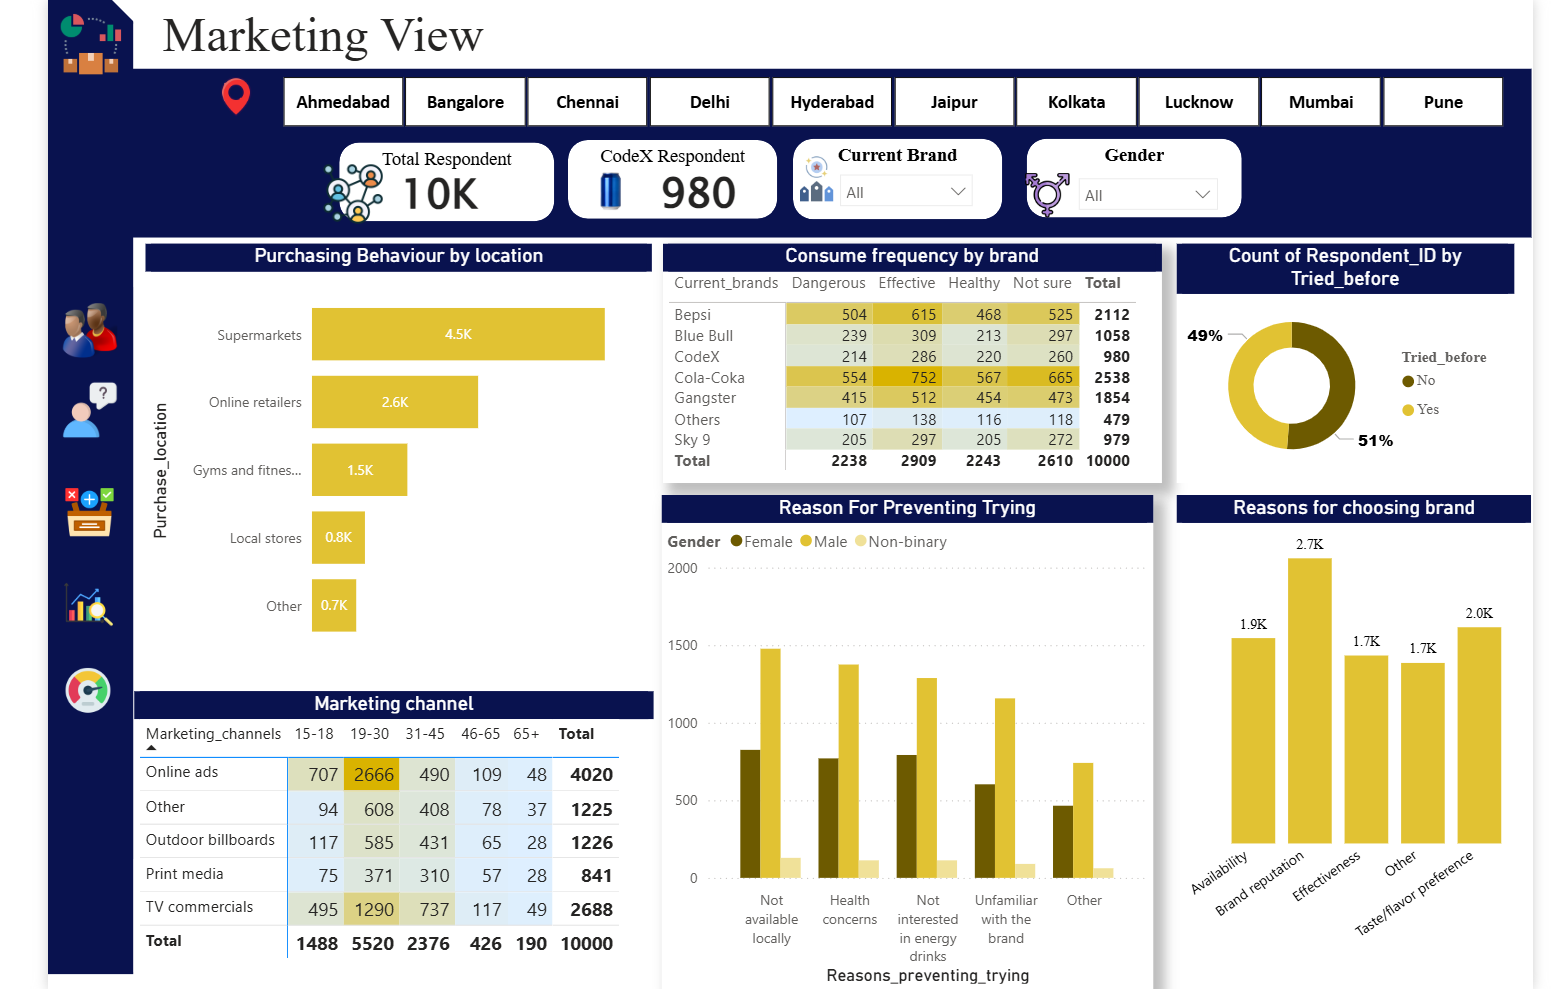

This screenshot's page, from the dashboard's own definition file:
{"tool":"powerbi","page":{"name":"Marketing view","canvas":[1281,854],"ordinal":5},"visuals":[{"type":"shape","box":[67.9,59.6,1211.8,145.7],"z":0},{"type":"shape","box":[642.3,119.2,180.5,69.5],"z":1000},{"type":"textbox","box":[94.1,0,415.2,70.6],"z":2000},{"type":"shape","box":[0,0,74,840.6],"z":3000},{"type":"shape","box":[448.6,120.9,180.5,67.9],"z":4000},{"type":"card","fields":{"Values":["fact_survey_responses.codex respondent"]},"box":[509.9,137.4,102.6,56.3],"z":5000},{"type":"shape","box":[251.6,122.5,185.4,67.9],"z":6000},{"type":"card","fields":{"Values":["measure.Total Respondent"]},"box":[263.2,140.7,149,49.7],"z":7000},{"type":"slicer","fields":{"Values":["dim_cities.City"]},"box":[177.1,59.6,1102.6,56.3],"z":8000},{"type":"slicer","fields":{"Values":["fact_survey_responses.Current_brands"]},"box":[673.3,140,135,46.7],"z":9000},{"type":"shape","box":[844.3,119.2,185.4,67.9],"z":10000},{"type":"slicer","fields":{"Values":["dim_repondents.Gender"]},"box":[878.3,143.3,140,40],"z":11000},{"type":"image","box":[836,144,53,48],"z":12000},{"type":"image","box":[129.1,59.6,66.2,48],"z":13000},{"type":"image","box":[195.4,137.4,135.8,61.3],"z":14000},{"type":"image","box":[629.1,129.1,69.5,49.7],"z":15000},{"type":"image","box":[448.6,140.7,72.8,46.4],"z":16000},{"type":"barChart","title":"Purchasing Behaviour by location","fields":{"Category":["fact_survey_responses.Purchase_location"],"Y":["CountNonNull(dim_repondents.Respondent_ID)"]},"box":[84.1,210.1,437.1,364.8],"z":17000},{"type":"pivotTable","title":"Marketing channel","fields":{"Rows":["fact_survey_responses.Marketing_channels"],"Values":["measure.Total Respondent"],"Columns":["dim_repondents.Age"]},"box":[74,596,448,258],"z":18000},{"type":"pivotTable","title":"Consume frequency  by brand","fields":{"Rows":["fact_survey_responses.Current_brands"],"Columns":["fact_survey_responses.General_perception"],"Values":["measure.Total Respondent"]},"box":[530,210,430,206],"z":19000},{"type":"clusteredColumnChart","title":"Reasons for choosing brand","fields":{"Category":["fact_survey_responses.Current_brands","fact_survey_responses.Reasons_for_choosing_brands"],"Y":["measure.Total Respondent"]},"box":[973.4,427,306,401.8],"z":20000},{"type":"donutChart","fields":{"Category":["fact_survey_responses.Tried_before"],"Y":["CountNonNull(dim_repondents.Respondent_ID)"]},"box":[973.4,210.1,290.8,206.8],"z":21000},{"type":"clusteredColumnChart","title":"Reason For Preventing Trying","fields":{"Category":["fact_survey_responses.Reasons_preventing_trying"],"Y":["measure.Total Respondent"],"Series":["dim_repondents.Gender"]},"box":[529.5,427,423.6,427],"z":22000},{"type":"image","box":[5,6.7,63.3,63.3],"z":23000},{"type":"image","box":[5,256.7,61.7,56.7],"z":24000},{"type":"image","box":[5,315,61.7,78.3],"z":25000},{"type":"image","box":[5,416.7,60,51.7],"z":26000},{"type":"image","box":[1.7,495,65,53.3],"z":27000},{"type":"image","box":[10,568.3,50,55],"z":28000}]}

Visuals, with their boxes on the page's 1281x854 design canvas (x1, y1, x2, y2). These are canvas units, not pixel positions in the 1563x989 screenshot, which may show the page scaled, cropped or inside an application window:
shape: Rect(68, 60, 1280, 205)
shape: Rect(642, 119, 823, 189)
textbox: Rect(94, 0, 509, 71)
shape: Rect(0, 0, 74, 841)
shape: Rect(449, 121, 629, 189)
card - fact_survey_responses.codex respondent: Rect(510, 137, 612, 194)
shape: Rect(252, 122, 437, 190)
card - measure.Total Respondent: Rect(263, 141, 412, 190)
slicer - dim_cities.City: Rect(177, 60, 1280, 116)
slicer - fact_survey_responses.Current_brands: Rect(673, 140, 808, 187)
shape: Rect(844, 119, 1030, 187)
slicer - dim_repondents.Gender: Rect(878, 143, 1018, 183)
image: Rect(836, 144, 889, 192)
image: Rect(129, 60, 195, 108)
image: Rect(195, 137, 331, 199)
image: Rect(629, 129, 699, 179)
image: Rect(449, 141, 521, 187)
"Purchasing Behaviour by location" barChart: Rect(84, 210, 521, 575)
"Marketing channel" pivotTable: Rect(74, 596, 522, 854)
"Consume frequency  by brand" pivotTable: Rect(530, 210, 960, 416)
"Reasons for choosing brand" clusteredColumnChart: Rect(973, 427, 1279, 829)
donutChart - fact_survey_responses.Tried_before x CountNonNull(dim_repondents.Respondent_ID): Rect(973, 210, 1264, 417)
"Reason For Preventing Trying" clusteredColumnChart: Rect(530, 427, 953, 854)
image: Rect(5, 7, 68, 70)
image: Rect(5, 257, 67, 313)
image: Rect(5, 315, 67, 393)
image: Rect(5, 417, 65, 468)
image: Rect(2, 495, 67, 548)
image: Rect(10, 568, 60, 623)
